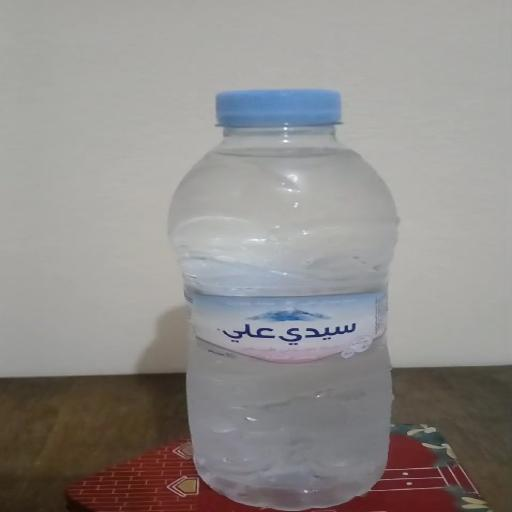bouteille conformite: (146, 75, 426, 512)
